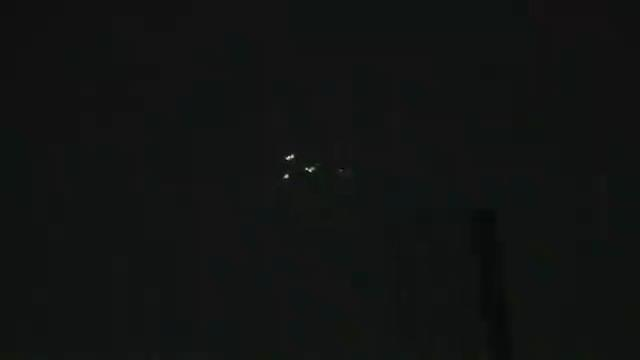Plane: (266, 143, 334, 185)
